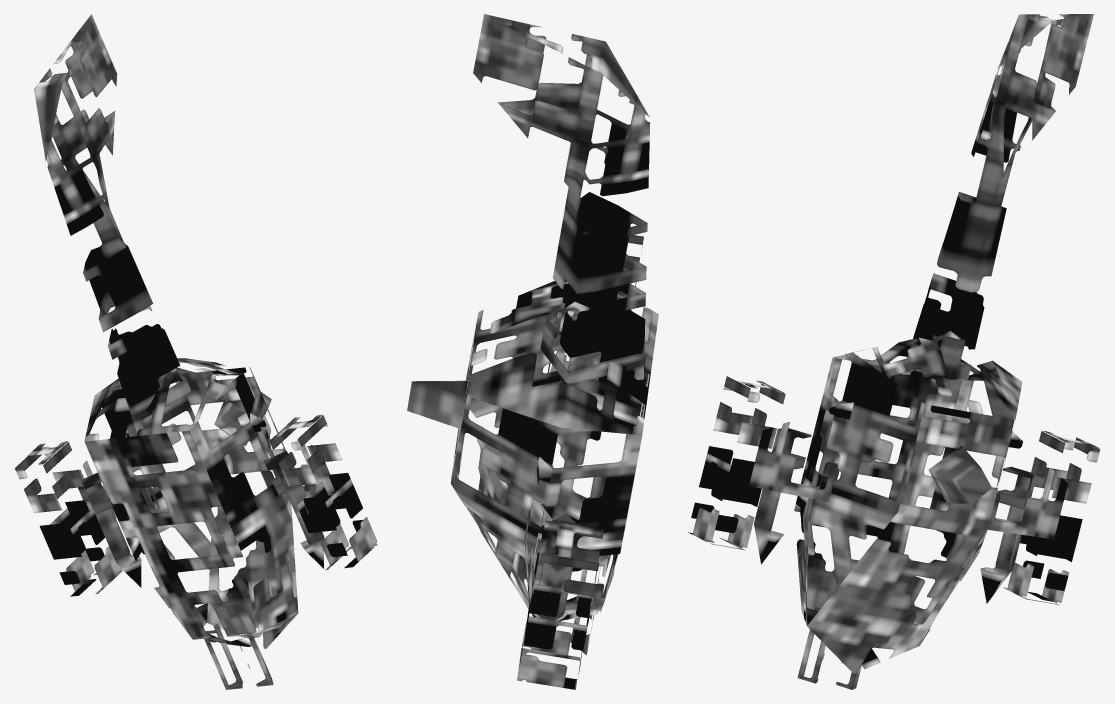
Rendered from heavycopter_wreck_backward.glb.
The picture shows the model from 3 angles, left to right: view 1: azimuth 30°, elevation 25°; view 2: azimuth 150°, elevation 25°; view 3: azimuth 270°, elevation 25°; orthographic projection. The views are drawn at different scales.
Parts seen in each view (by area): view 1: HC_hip01; view 2: HC_hip01; view 3: HC_hip01.
Boxes of the visible parts, <box> form: HC_hip01: <box>15,14,377,689</box>; HC_hip01: <box>407,14,658,689</box>; HC_hip01: <box>688,14,1100,689</box>.
Size of the model in its own units: 4.02 by 11.08 by 6.28.
1 material, 1 textured.
